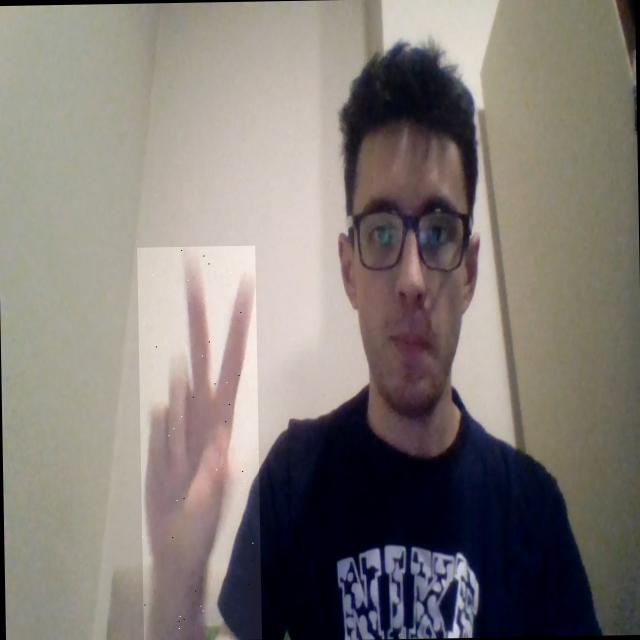no: (136, 245, 261, 640)
